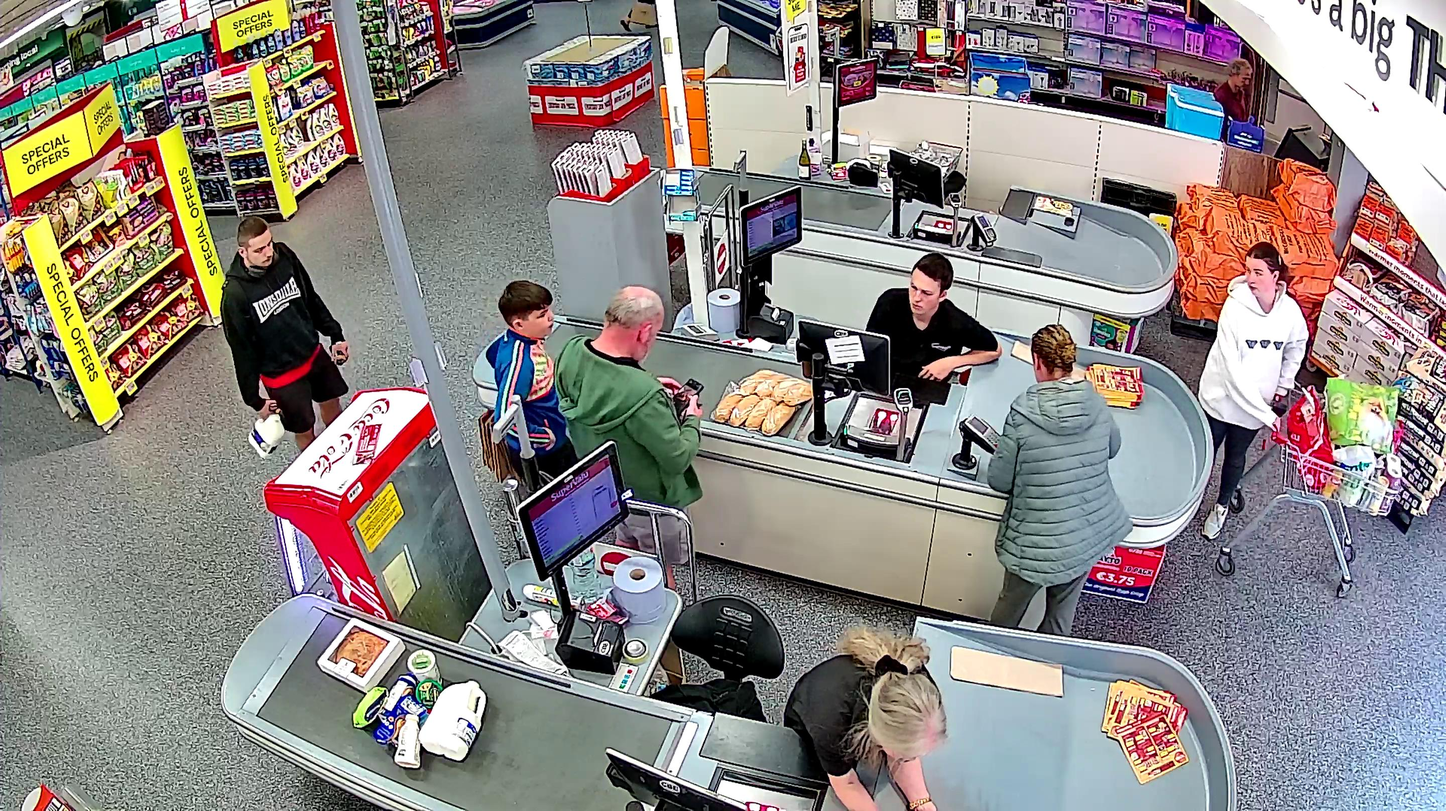carrying-item: (247, 396, 285, 458)
occupied-checkout-counter: (513, 439, 948, 811), (731, 181, 1005, 481)
person: (220, 216, 349, 458)
person-with-carrying-item: (220, 215, 347, 458)
vacant-checkout-counter: (830, 55, 997, 253)
